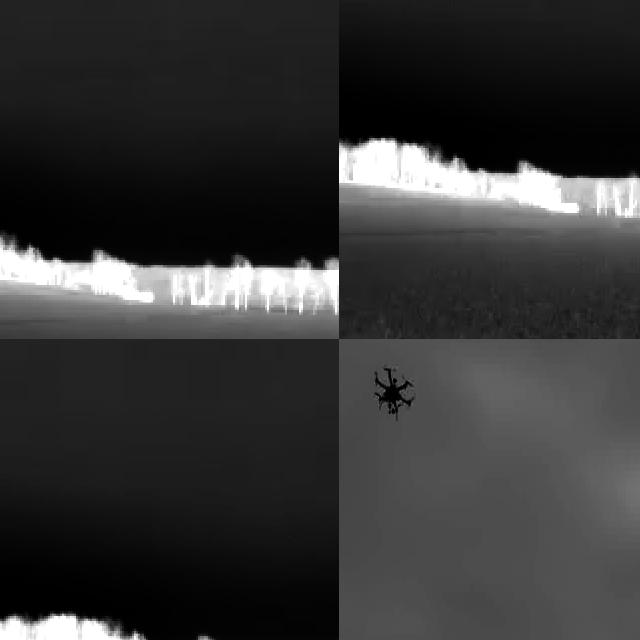drone: (366, 359, 421, 422)
